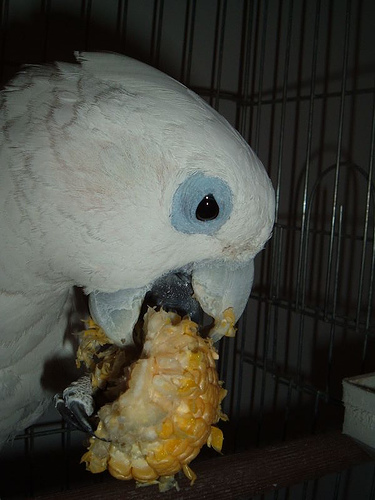corn: (85, 310, 225, 487)
